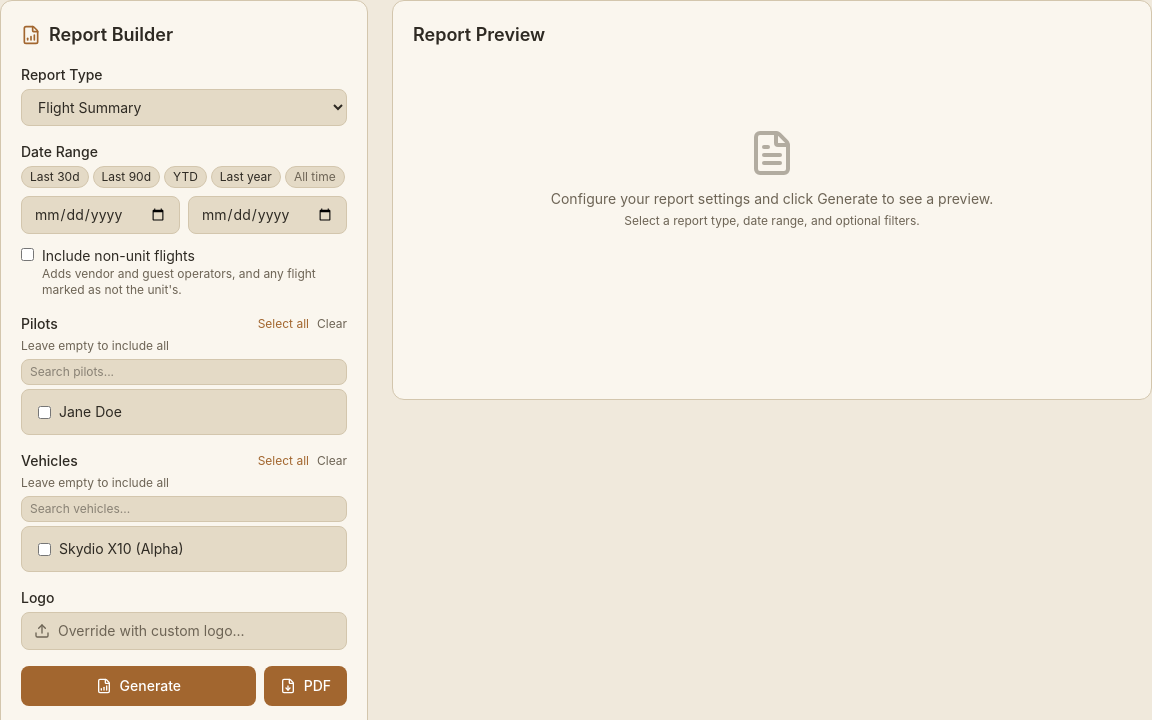
Test case: ReportsPage › links pilot and vehicle names in the preview
expect the heading "Report Builder" is shown: met, box [21, 24, 173, 45]
Step 1. Click the button "Generate" → (138,686), box [21, 666, 256, 706]
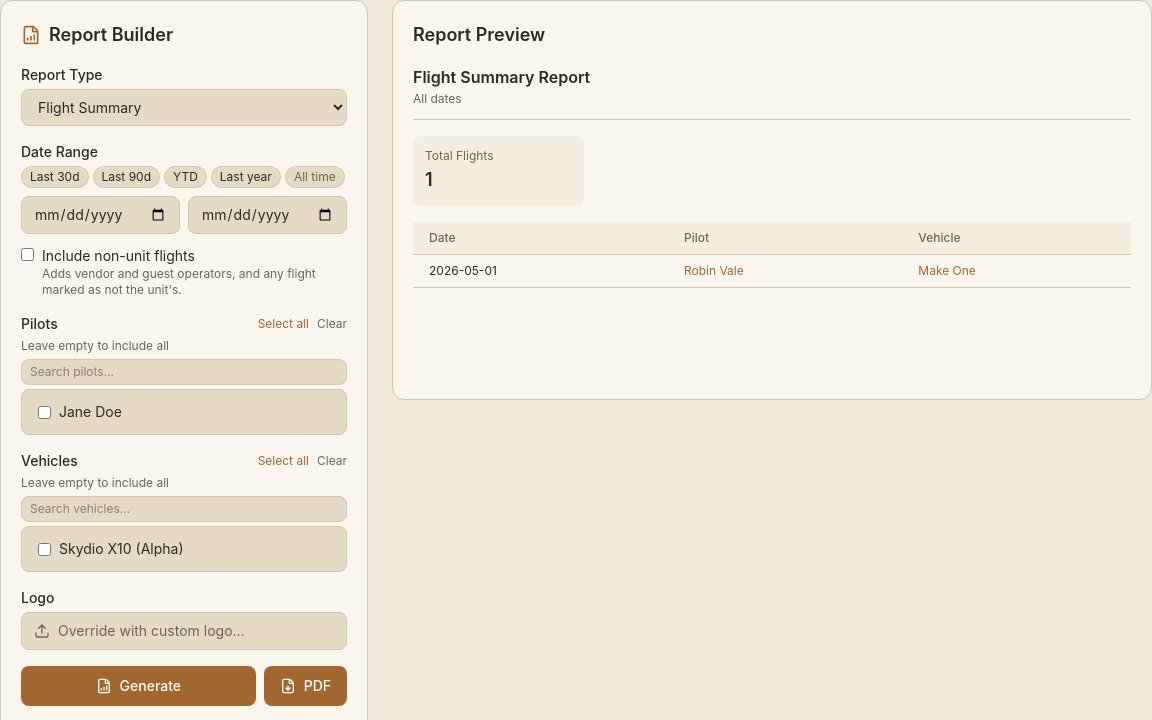
expect the number of column headings is 3: met, box [413, 222, 668, 254]; [668, 222, 902, 254]; [902, 222, 1131, 254]
